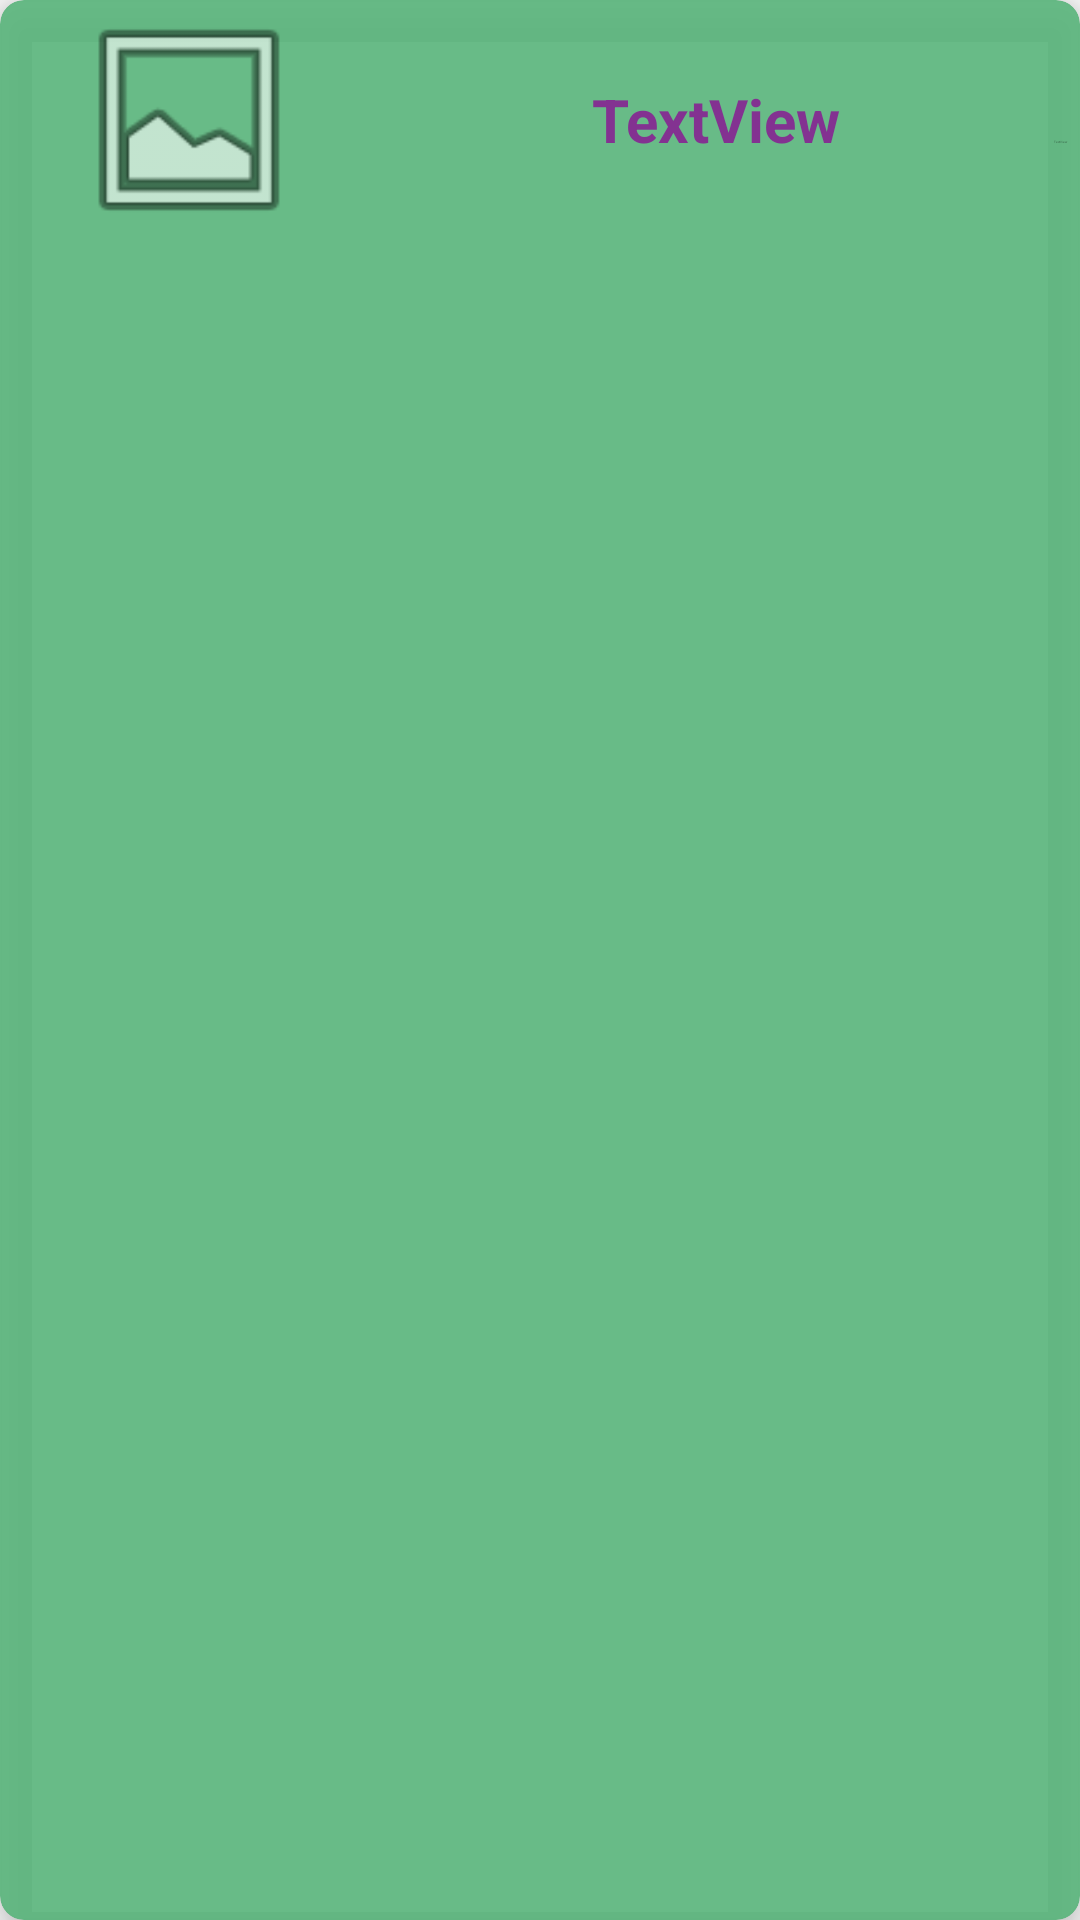

Named icons in this screenshot (1080×1920) and their centers, [x,y]:
gallery: [139,105]
